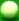white: (0, 0, 19, 21)
